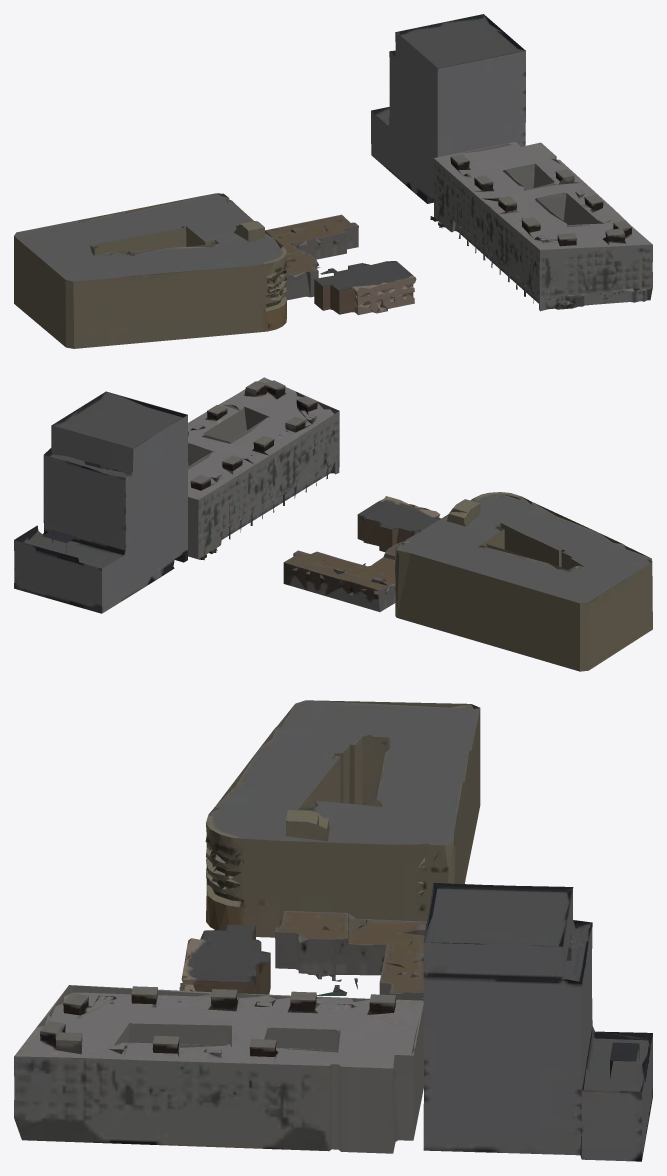
The model's file is t_-3_1.coat.glb.
3 views of the same model, one above another, from view 1: azimuth 30°, elevation 25°; view 2: azimuth 150°, elevation 25°; view 3: azimuth 270°, elevation 25° (orthographic). The views are drawn at different scales.
Parts seen in each view (by area): view 1: far; view 2: far; view 3: far.
Part boxes in pixels (<box>): far: <box>14,14,652,348</box>; far: <box>14,377,652,671</box>; far: <box>14,700,652,1161</box>.
Size of the model in its own units: 195 by 52.09 by 144.
1 material, 1 textured.
